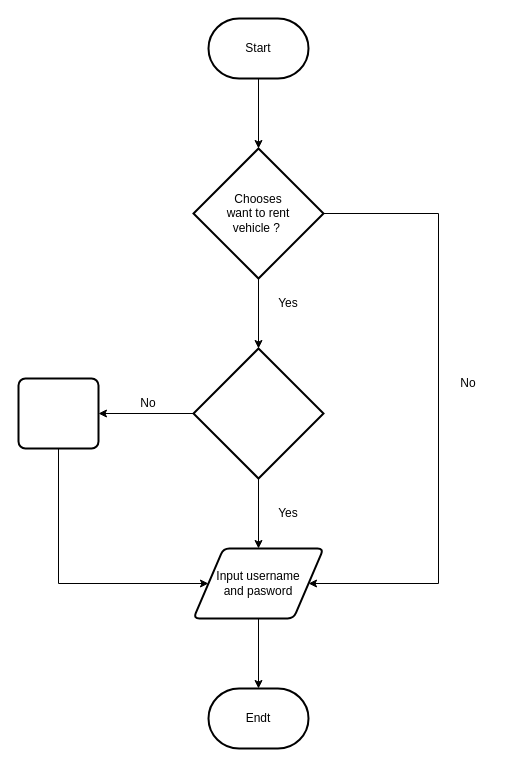
The diagram is 515 pixels wide and 766 high, and some of its shapes have lost their labels. Each missing label, with the centre of its shape:
Registration: pixel 58 413
User Chooses Have account question: pixel 258 413
